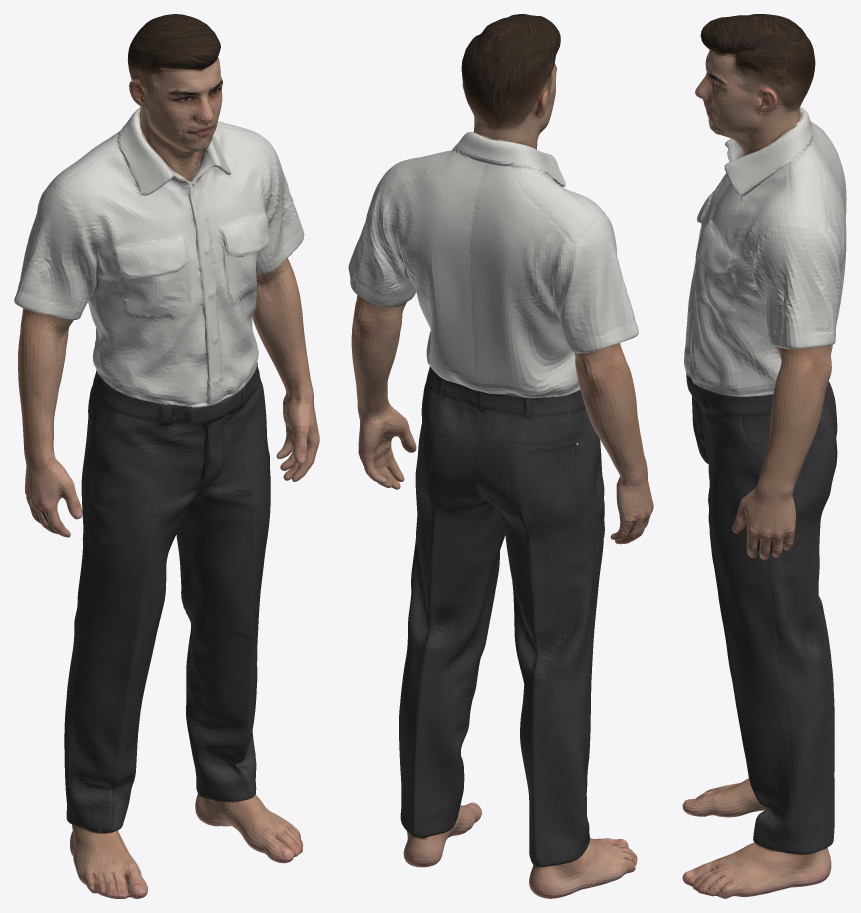
File: army_no3_male.glb
The picture shows the model from 3 angles, left to right: view 1: azimuth 30°, elevation 25°; view 2: azimuth 150°, elevation 25°; view 3: azimuth 270°, elevation 25°; orthographic projection.
Parts seen in each view (by area): view 1: uniform_mesh; view 2: uniform_mesh; view 3: uniform_mesh.
Boxes of the visible parts, x1=… form: uniform_mesh: x1=14, y1=14, x2=319, y2=898; uniform_mesh: x1=348, y1=14, x2=653, y2=898; uniform_mesh: x1=682, y1=14, x2=846, y2=898.
Bounding box in the file's own units: 0.6415 × 1.78 × 0.3177.
1 material, 1 textured.
